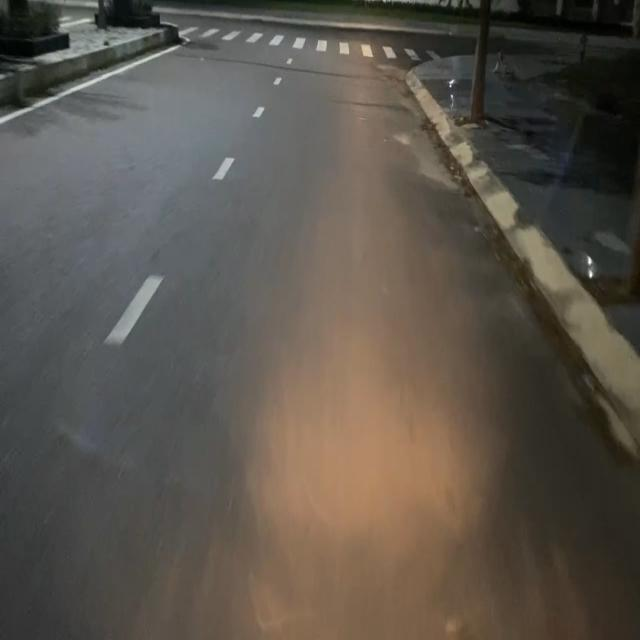walk-crossing: (188, 18, 440, 68)
